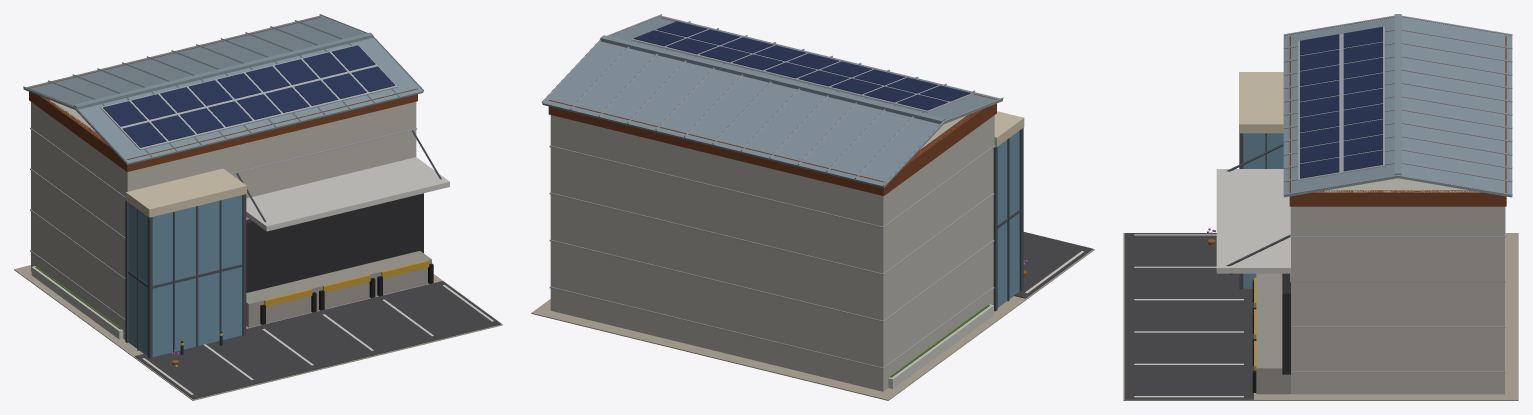
File: factory_2.glb
The picture shows the model from 3 angles, left to right: view 1: azimuth 30°, elevation 25°; view 2: azimuth 150°, elevation 25°; view 3: azimuth 270°, elevation 25°; orthographic projection. The views are drawn at different scales.
Visible parts, largest first — view 1: body; view 2: body; view 3: body.
Part boxes in pixels (x1,y1,x2,y2): body: (14, 14, 502, 400); body: (531, 14, 1094, 400); body: (1123, 14, 1518, 400).
Bounding box in the file's own units: 15.9 × 10.1 × 15.9.
